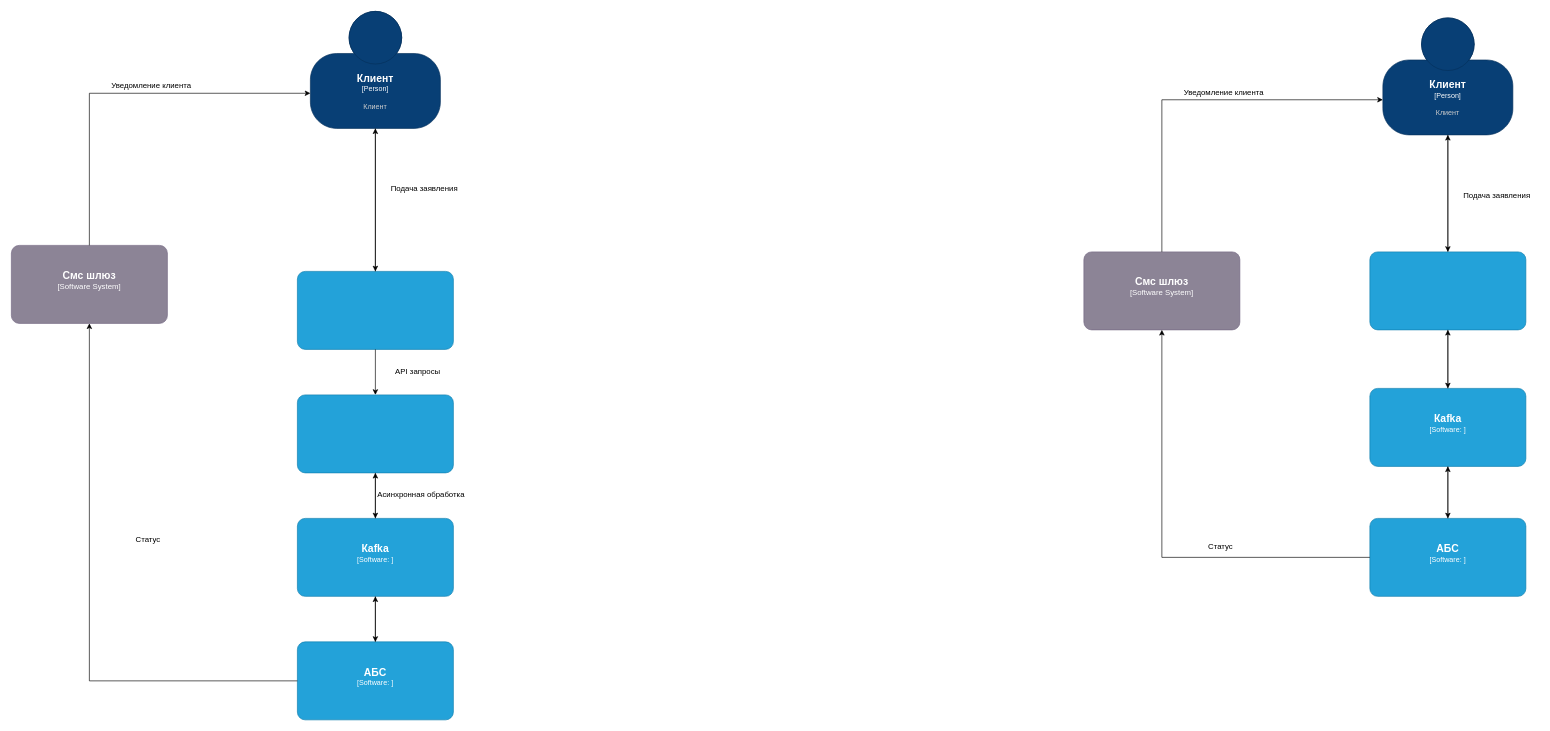
Some shapes in this 1550 by 731 pixel diagram are drawn without their labels. Here are the shapes that lost their labels. From the top down, the centre of each, then its label:
At (375,310): "Сайт банка [Container: React]".
At (1447,290): "Интернет банк [Software: ]".
At (375,433): "Бэкенд [Container: C#]".
